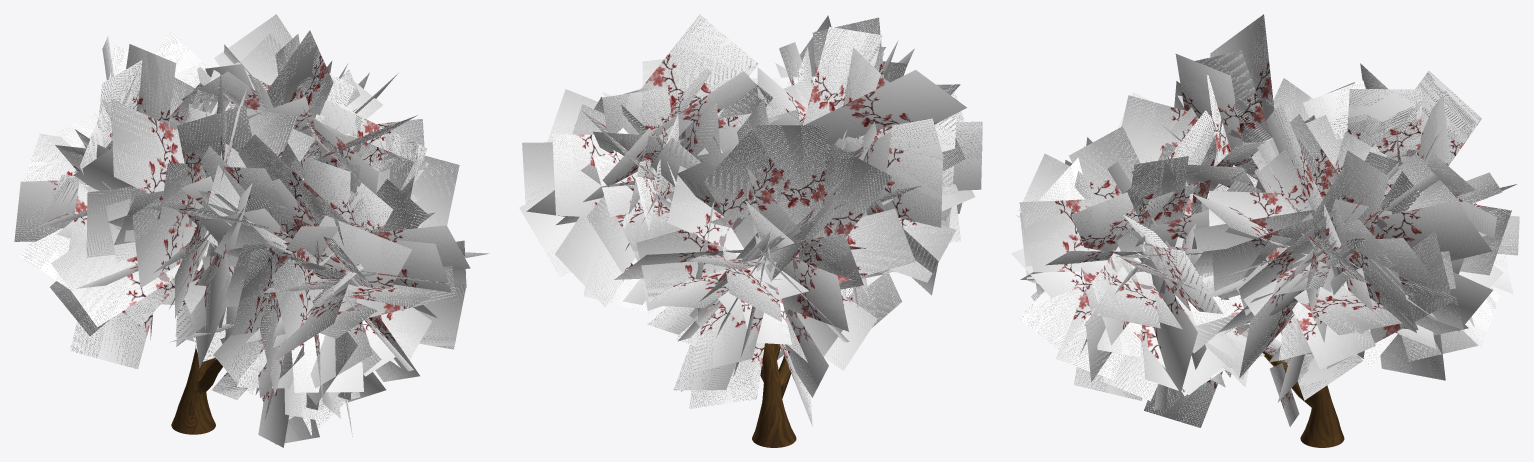
File: ExportedObj;3D_PRFB_ENV_CHTR_001_0.obj
3 views of the same model, side by side, from view 1: azimuth 30°, elevation 25°; view 2: azimuth 150°, elevation 25°; view 3: azimuth 270°, elevation 25° (orthographic).
Visible parts, largest first — view 1: 3D_PRFB_ENV_CHTR_001; view 2: 3D_PRFB_ENV_CHTR_001; view 3: 3D_PRFB_ENV_CHTR_001.
Part boxes in pixels (x1=…): 3D_PRFB_ENV_CHTR_001: x1=14, y1=14, x2=489, y2=447; 3D_PRFB_ENV_CHTR_001: x1=519, y1=14, x2=982, y2=447; 3D_PRFB_ENV_CHTR_001: x1=1011, y1=14, x2=1519, y2=447.
Bounding box in the file's own units: 21.87 × 20.88 × 25.18.
